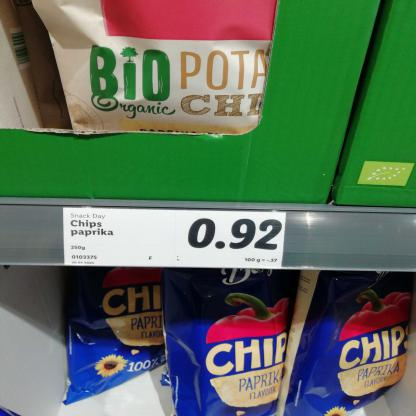prtg: (65, 208, 287, 269)
